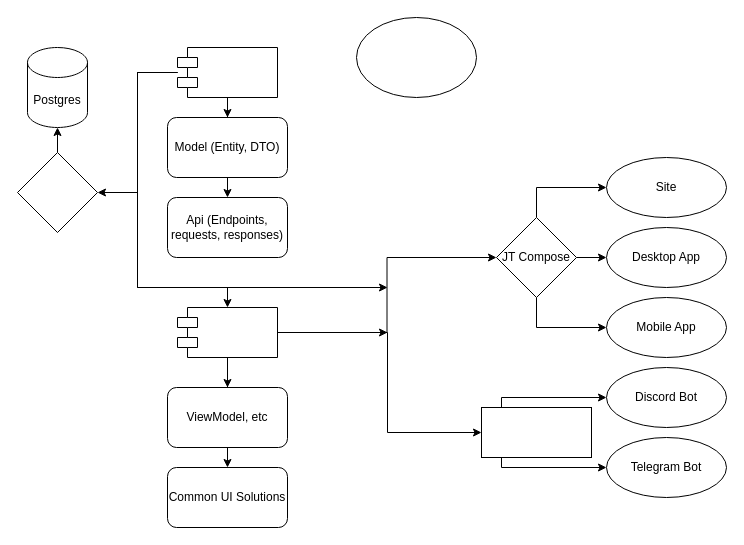
The diagram is 744 pixels wide and 545 high, and some of its shapes have lost their labels. The centre of each missing label's shape, as x and y in pixels:
Backend: the point at 57,192
Common: the point at 227,72
Common Bot: the point at 536,432
Common UI: the point at 227,332
Talos MS: the point at 416,57
